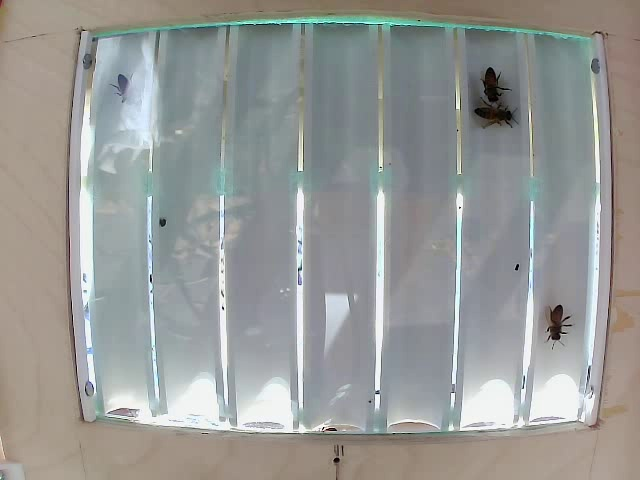bee: (538, 295, 583, 356), (103, 65, 159, 109), (475, 99, 514, 139), (474, 66, 509, 109)
